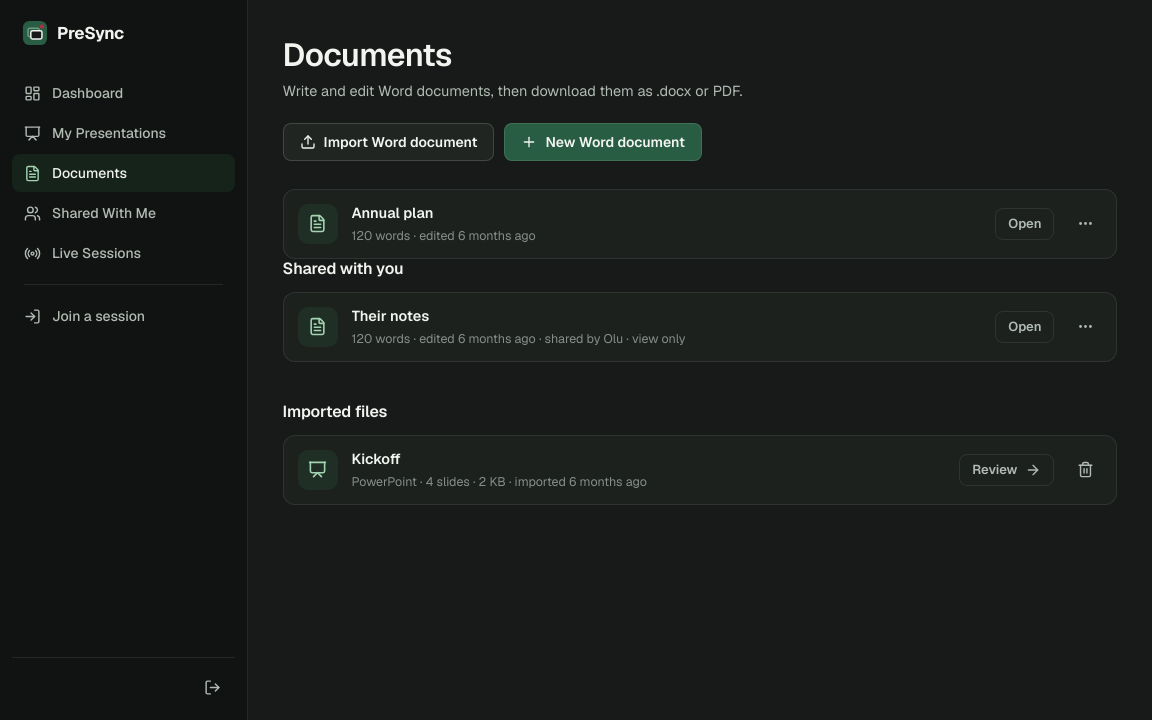
DocumentsPage › lists documents shared with the user on their own, with who shared them
Expected: the text "shared by Olu · view only" is shown, [352,330,685,347]
Click the button named "Actions for Their notes" at (1086, 327), box [1068,310,1102,344]
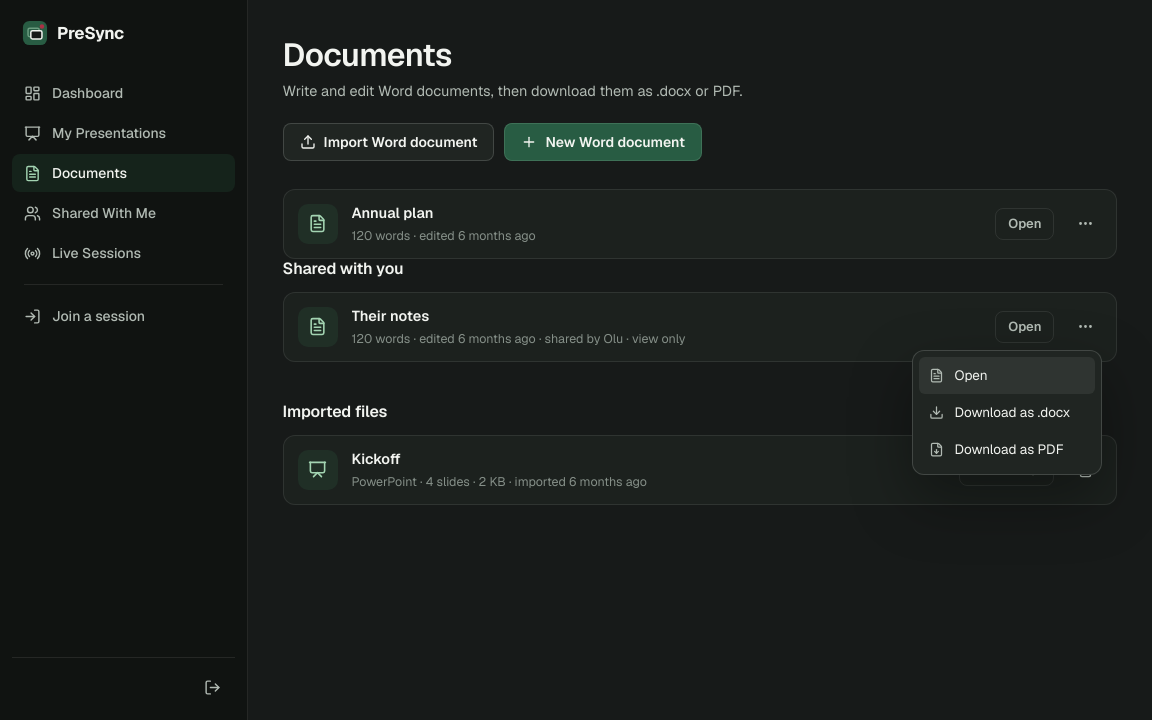
Expected: the menu item "Download as PDF" is shown, [920,431,1096,468]
